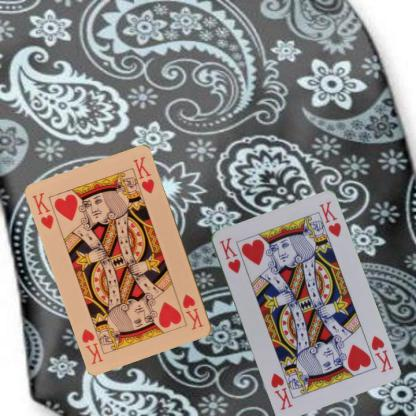Kh: (30, 190, 56, 231), (368, 333, 394, 374), (180, 291, 205, 332), (217, 234, 242, 274)
